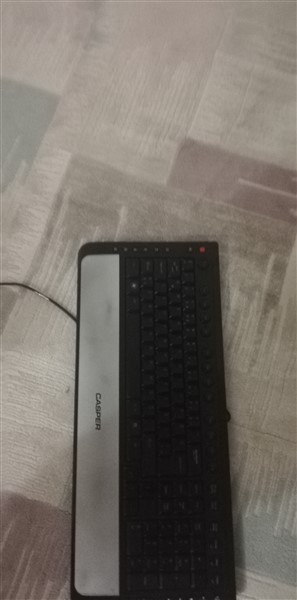klavye: (68, 236, 244, 598)
